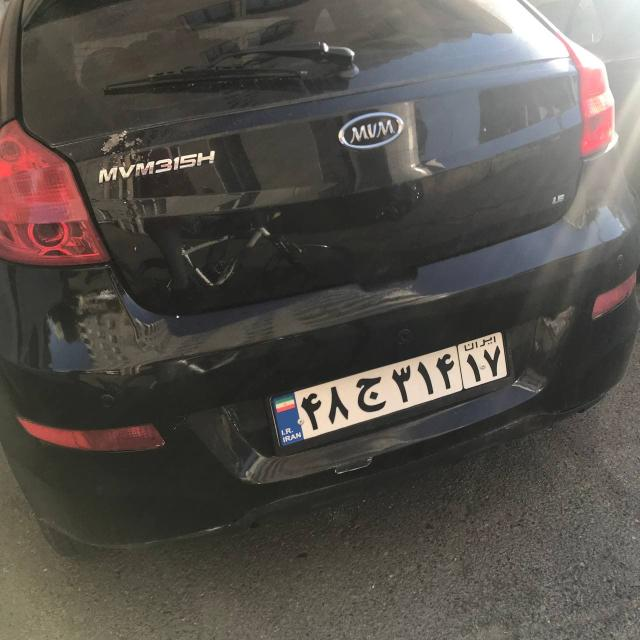Plates: (267, 327, 513, 446)
